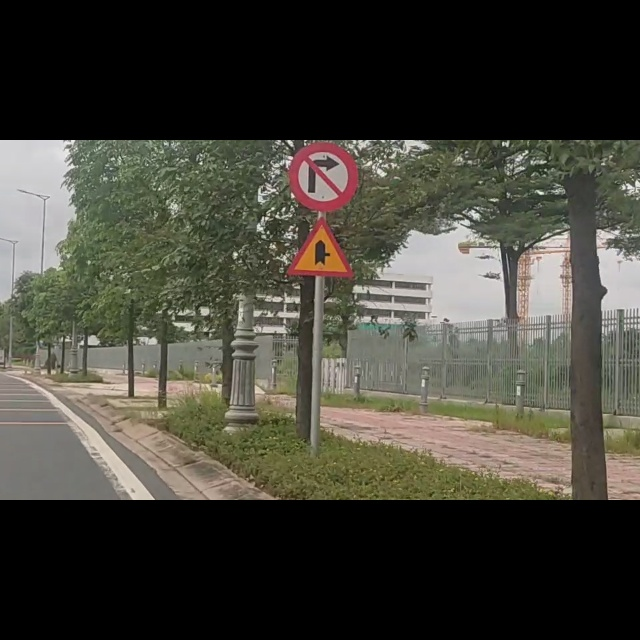bien_nguy_hiem: (290, 5, 361, 132), (286, 135, 359, 250)
